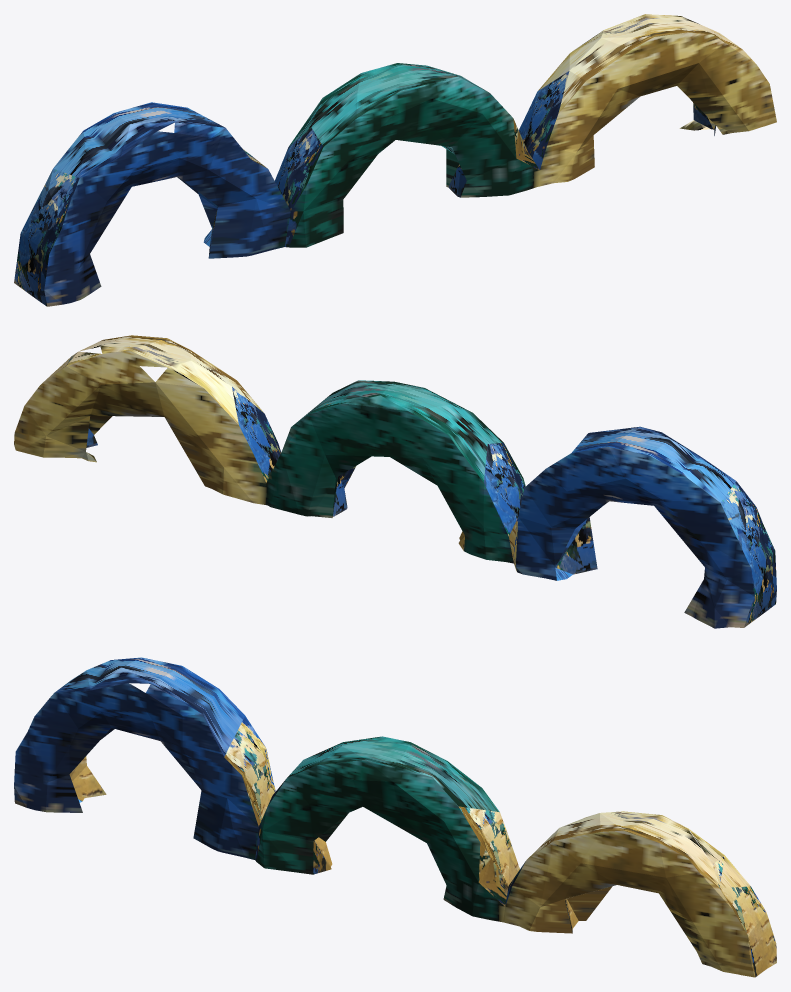
The picture shows the model from 3 angles, top to bottom: view 1: azimuth 30°, elevation 25°; view 2: azimuth 150°, elevation 25°; view 3: azimuth 330°, elevation 25°; orthographic projection.
Size of the model in its own units: 1.94 by 0.3769 by 0.2034.
Materials: 1 (1 with a texture image).
